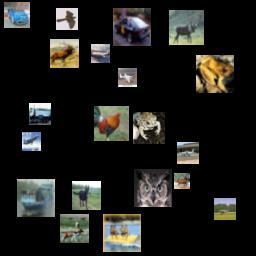airplane: (214, 198, 236, 220), (177, 142, 199, 164), (118, 68, 137, 87), (91, 44, 110, 63), (22, 132, 41, 151)
automobile: (113, 8, 151, 46), (4, 2, 30, 28)
bird: (134, 169, 172, 207), (94, 106, 129, 141), (56, 8, 78, 30)
deer: (169, 10, 204, 45), (60, 214, 89, 243), (50, 39, 79, 68)
dog: (72, 181, 101, 210)
frog: (196, 55, 234, 93), (133, 112, 165, 144)
ship: (17, 179, 55, 217), (103, 214, 141, 252)
truck: (29, 103, 51, 125)
